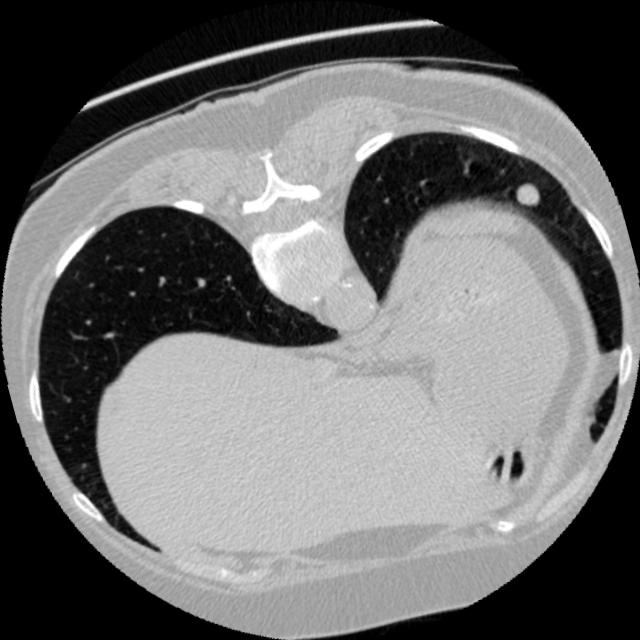nodule: (496, 166, 555, 224)
